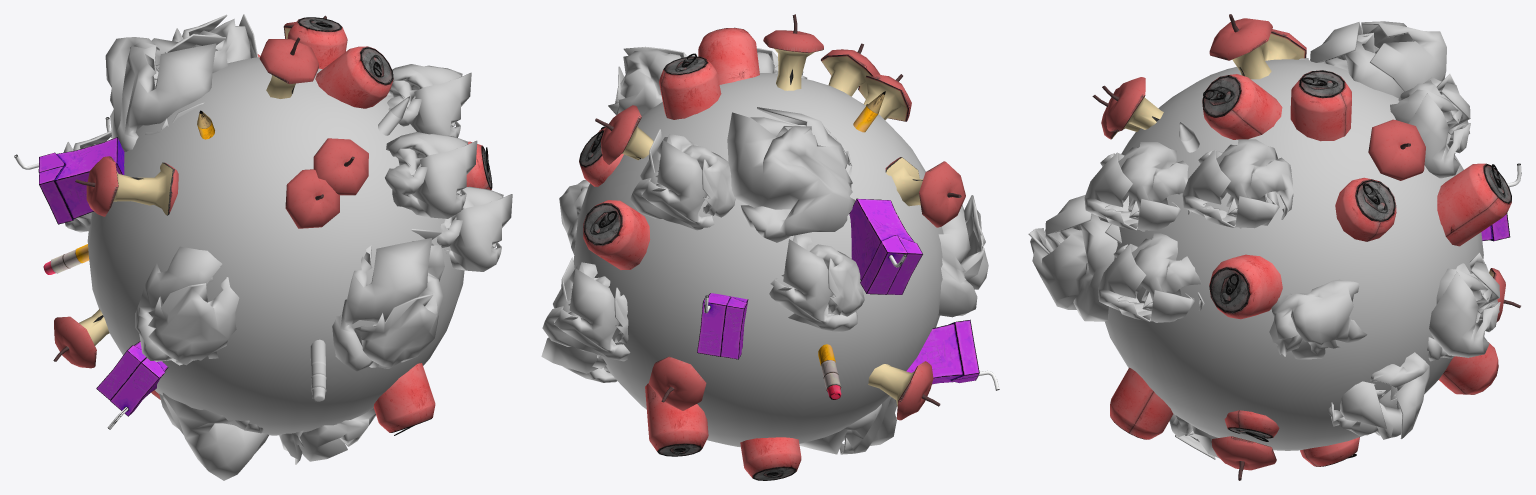
The model's file is trashmodel.fbx.
The picture shows the model from 3 angles, left to right: view 1: azimuth 30°, elevation 25°; view 2: azimuth 150°, elevation 25°; view 3: azimuth 270°, elevation 25°; orthographic projection. The views are drawn at different scales.
Parts seen in each view (by area): view 1: Sphere001; view 2: Sphere001; view 3: Sphere001.
Part boxes in pixels (left/top/right/bottom): Sphere001: left=14, top=14, right=512, bottom=480; Sphere001: left=541, top=14, right=999, bottom=480; Sphere001: left=1028, top=14, right=1521, bottom=480.
Bounding box in the file's own units: 164 × 165 × 171.
